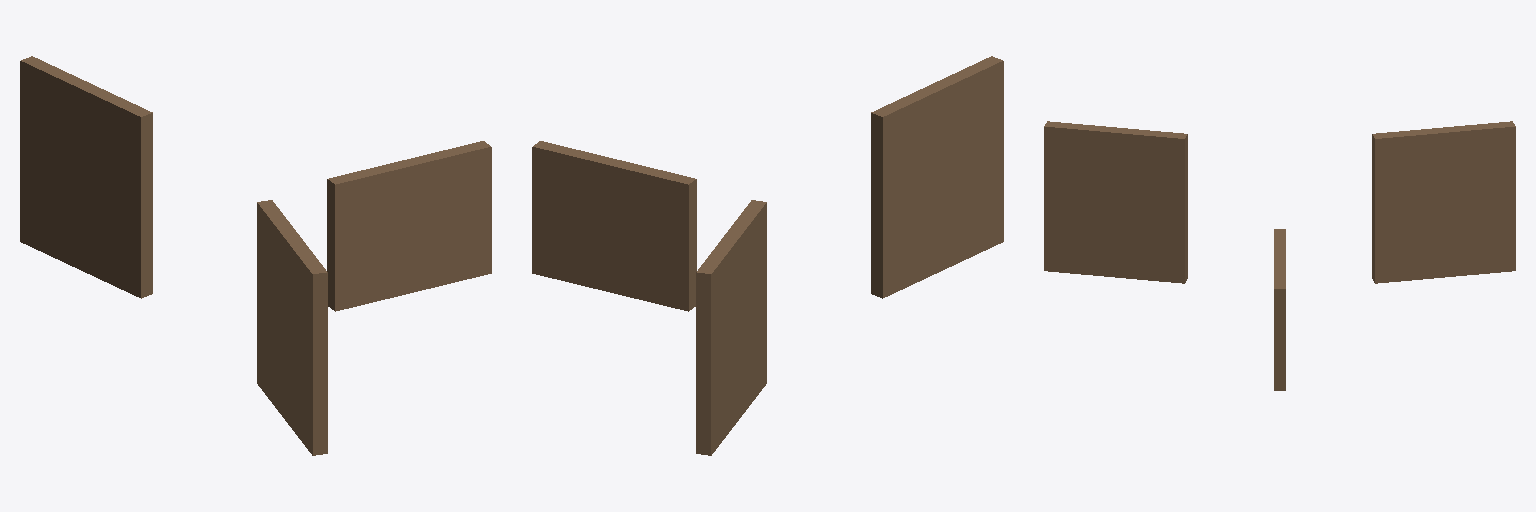
The robot description file, URDF, robot "walls":
<?xml version="1.0"?>
<!-- Copy of WALLS in multicap_scene.py, used by 8caps_3obs: update both together. Load at the identity pose.
     For a wall at angle a, running from r_in = 0.30 to r_out = 0.75 with height h:
       size = (r_out - r_in, thickness, h) = (0.45, 0.04, h)
       xyz  = (0.525 cos a, 0.525 sin a, h / 2)
       rpy  = (0, 0, a)
     front_wall: a = 0 deg, h = 0.35. left_wall: a = 102 deg, h = 0.50. right_wall: a = -102 deg, h = 0.50. -->
<robot name="walls">
  <link name="walls_link">
    <inertial>
      <mass value="1"/>
      <inertia ixx="1" ixy="0" ixz="0" iyy="1" iyz="0" izz="1"/>
    </inertial>

    <visual>
      <origin xyz="0.525 0 0.175" rpy="0 0 0"/>
      <geometry><box size="0.45 0.04 0.35"/></geometry>
      <material name="wall_colour"><color rgba="0.55 0.45 0.35 0.6"/></material>
    </visual>
    <collision>
      <origin xyz="0.525 0 0.175" rpy="0 0 0"/>
      <geometry><box size="0.45 0.04 0.35"/></geometry>
    </collision>

    <visual>
      <origin xyz="-0.109153638 0.513527490 0.25" rpy="0 0 1.780235837"/>
      <geometry><box size="0.45 0.04 0.5"/></geometry>
      <material name="wall_colour"><color rgba="0.55 0.45 0.35 0.6"/></material>
    </visual>
    <collision>
      <origin xyz="-0.109153638 0.513527490 0.25" rpy="0 0 1.780235837"/>
      <geometry><box size="0.45 0.04 0.5"/></geometry>
    </collision>

    <visual>
      <origin xyz="-0.109153638 -0.513527490 0.25" rpy="0 0 -1.780235837"/>
      <geometry><box size="0.45 0.04 0.5"/></geometry>
      <material name="wall_colour"><color rgba="0.55 0.45 0.35 0.6"/></material>
    </visual>
    <collision>
      <origin xyz="-0.109153638 -0.513527490 0.25" rpy="0 0 -1.780235837"/>
      <geometry><box size="0.45 0.04 0.5"/></geometry>
    </collision>
  </link>
</robot>

--- What the picture shows (computed from the rendered views, not written in the file) ---
The picture shows the robot from 3 angles, left to right: view 1: azimuth 30°, elevation 25°; view 2: azimuth 150°, elevation 25°; view 3: azimuth 270°, elevation 25°; orthographic projection.
Robot: walls — 1 links, 0 joints (none); root link walls_link; default pose: all joints at 0.
Links seen in each view (by area): view 1: walls_link; view 2: walls_link; view 3: walls_link.
Link boxes in pixels (x1,y1,x2,y2): walls_link: (20,56,491,455); walls_link: (532,56,1003,455); walls_link: (1044,121,1515,390).
Bounding box of the posed robot: 0.9255 × 1.48 × 0.5 m (x, y, z).
Geometry: primitives only (box / cylinder / sphere), no mesh files.
